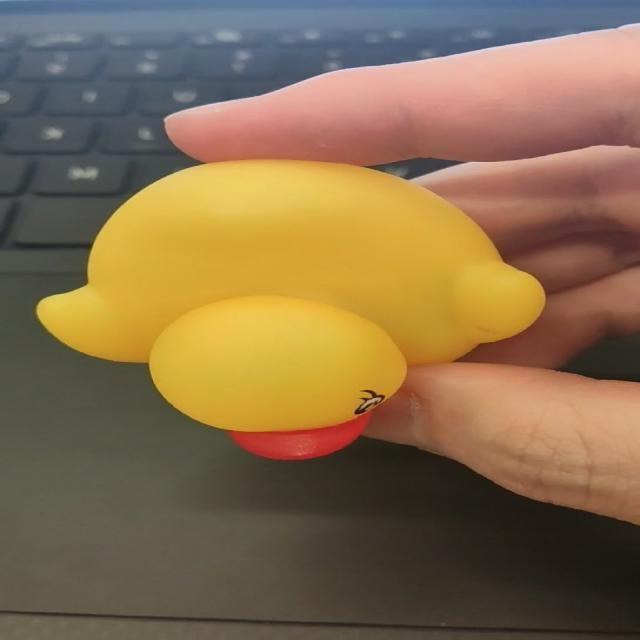rubber-duck: (36, 159, 543, 458)
